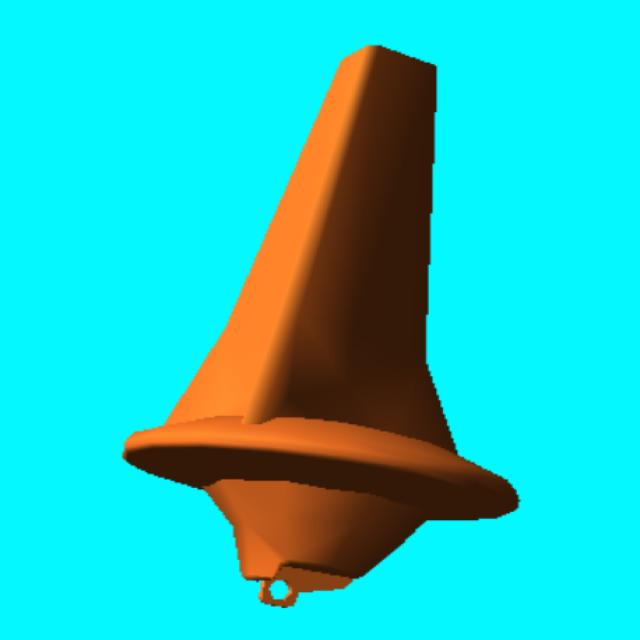OrangeBuoy: (124, 46, 518, 606)
